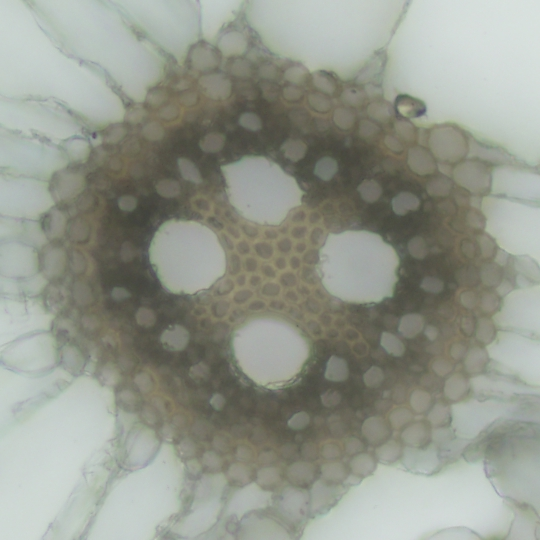lm: (315, 228, 400, 306), (146, 217, 226, 295), (219, 154, 306, 225), (232, 314, 312, 391)
